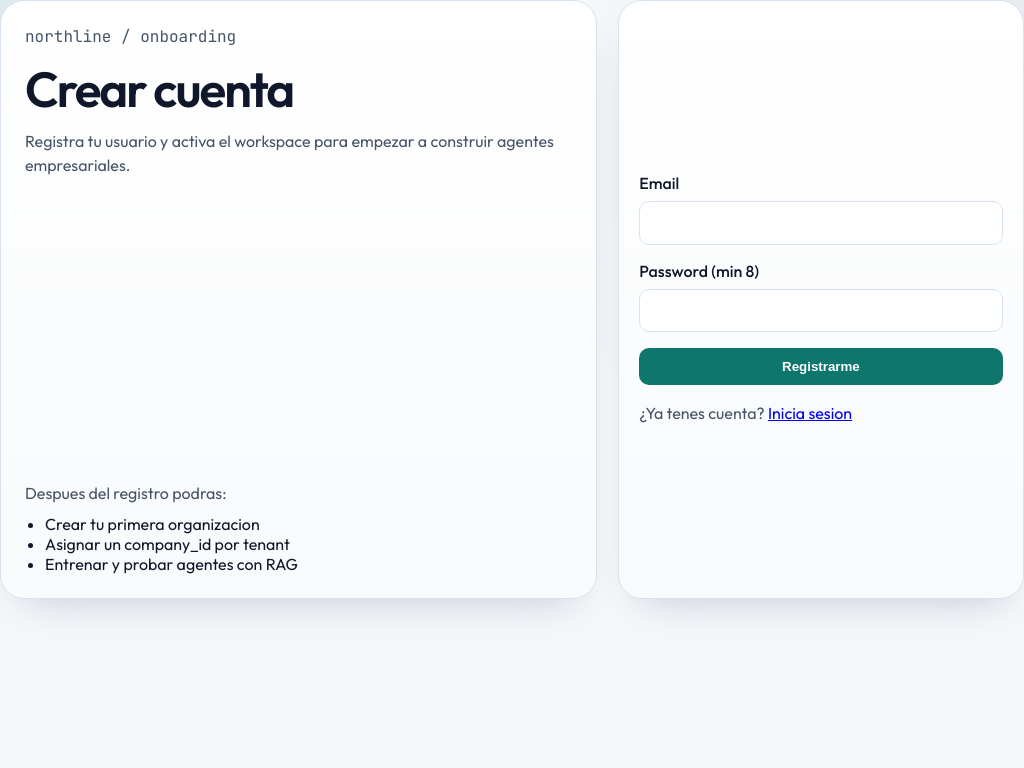
Test: RegisterPage › shows success message on register success
Type "owner@demo.com" into the field labelled "Email".
click(821, 223); type("owner@demo.com")  # box [639, 201, 1003, 245]
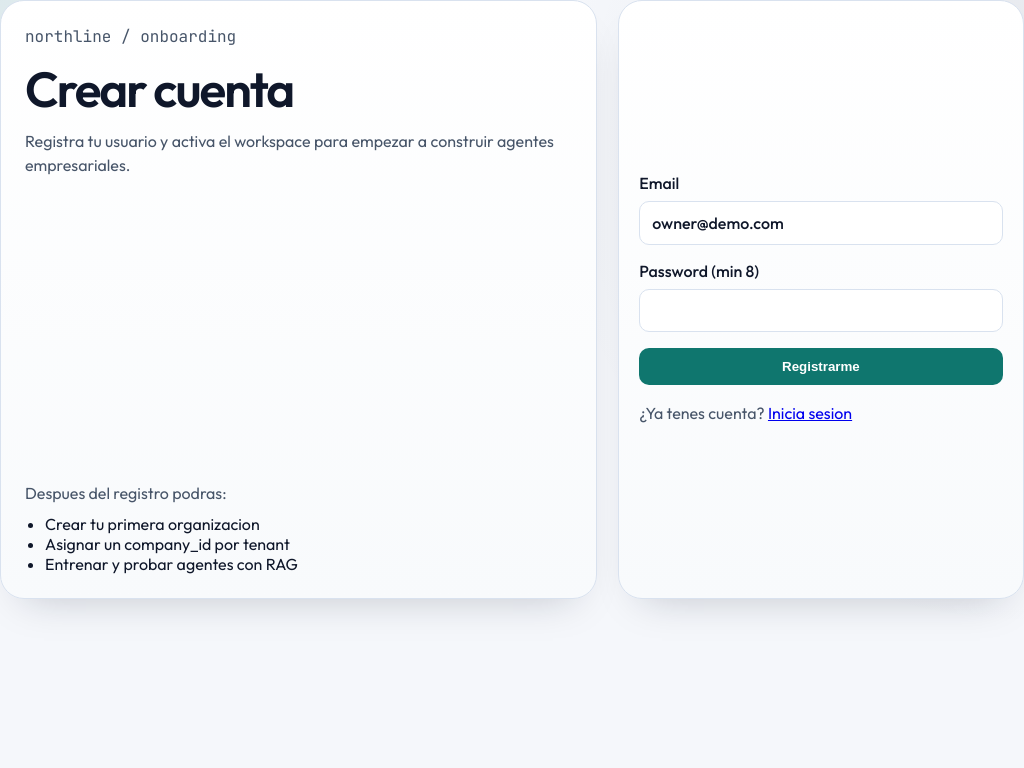
Type "password123" into the password field labelled "Password (min 8)".
click(821, 311); type("password123")  # box [639, 289, 1003, 332]
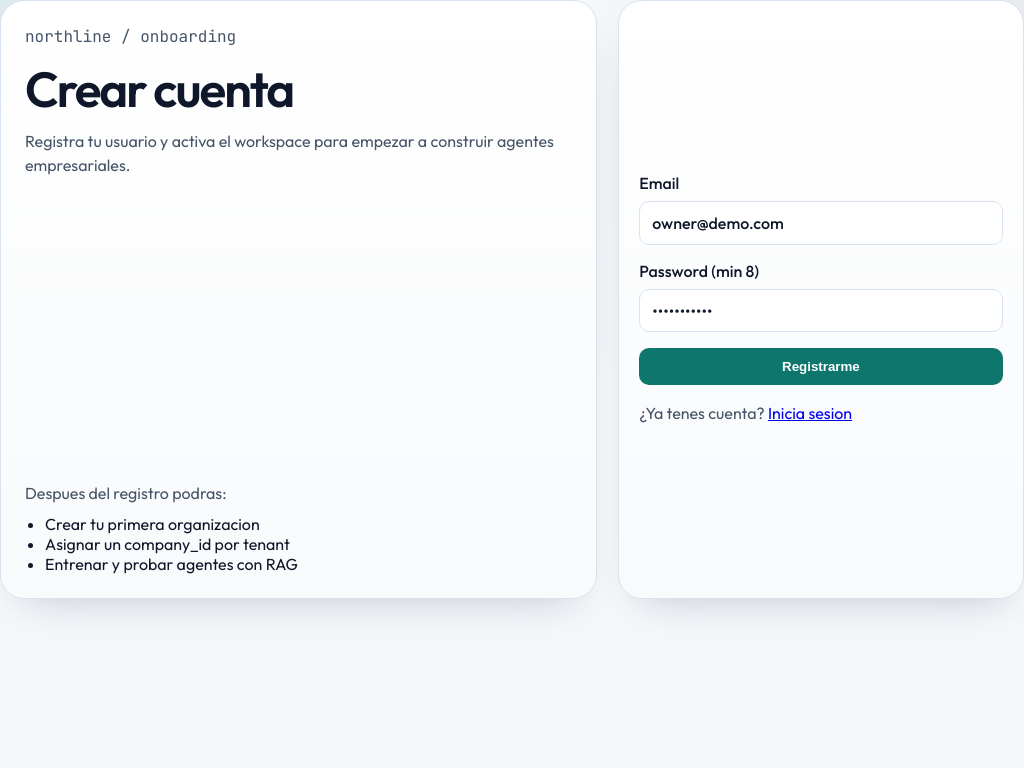
Submit the form from the button "Registrarme", box [639, 348, 1003, 385]
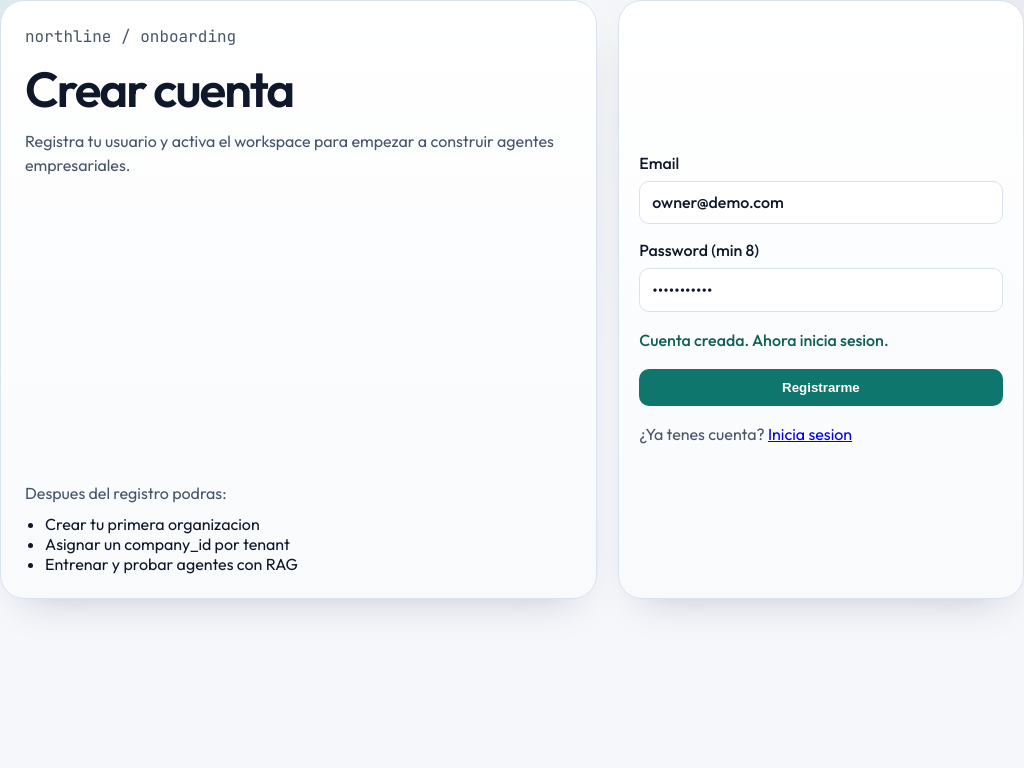
Now the text "Cuenta creada. Ahora inicia sesion." is shown, box [639, 330, 889, 350]
